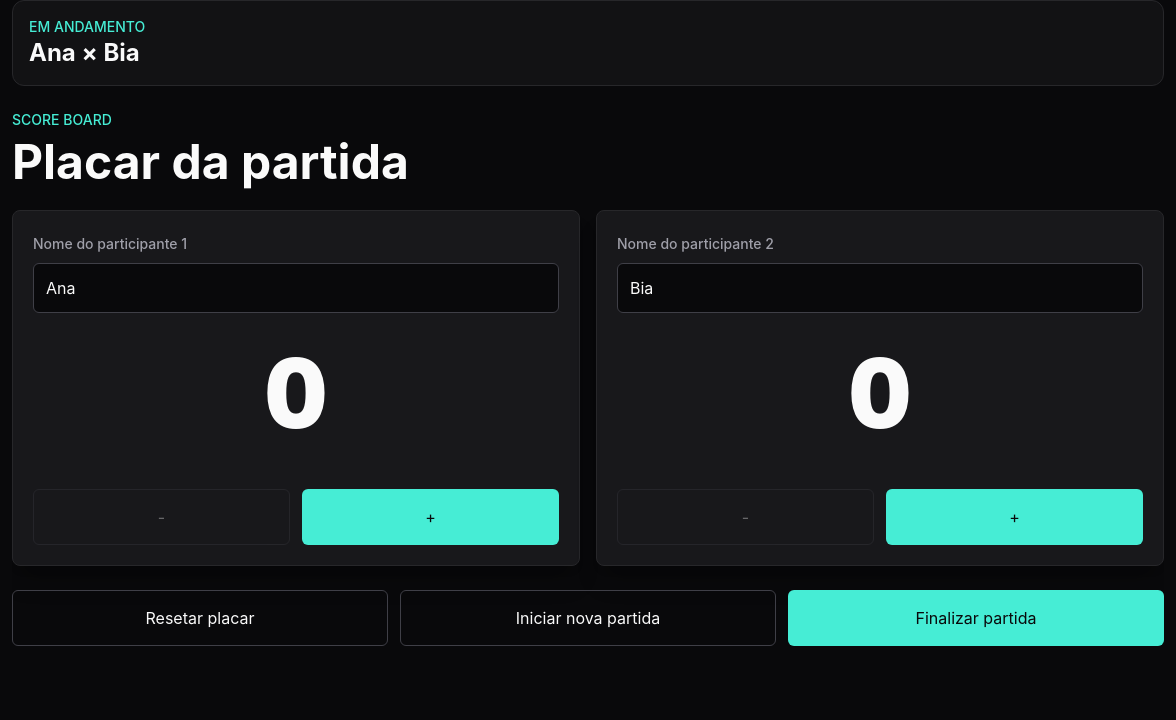
Test: CurrentMatchView › does not finish a tournament match with a draw
Click the button "Finalizar partida". click: {"x": 976, "y": 618}
box: [788,590,1164,646]
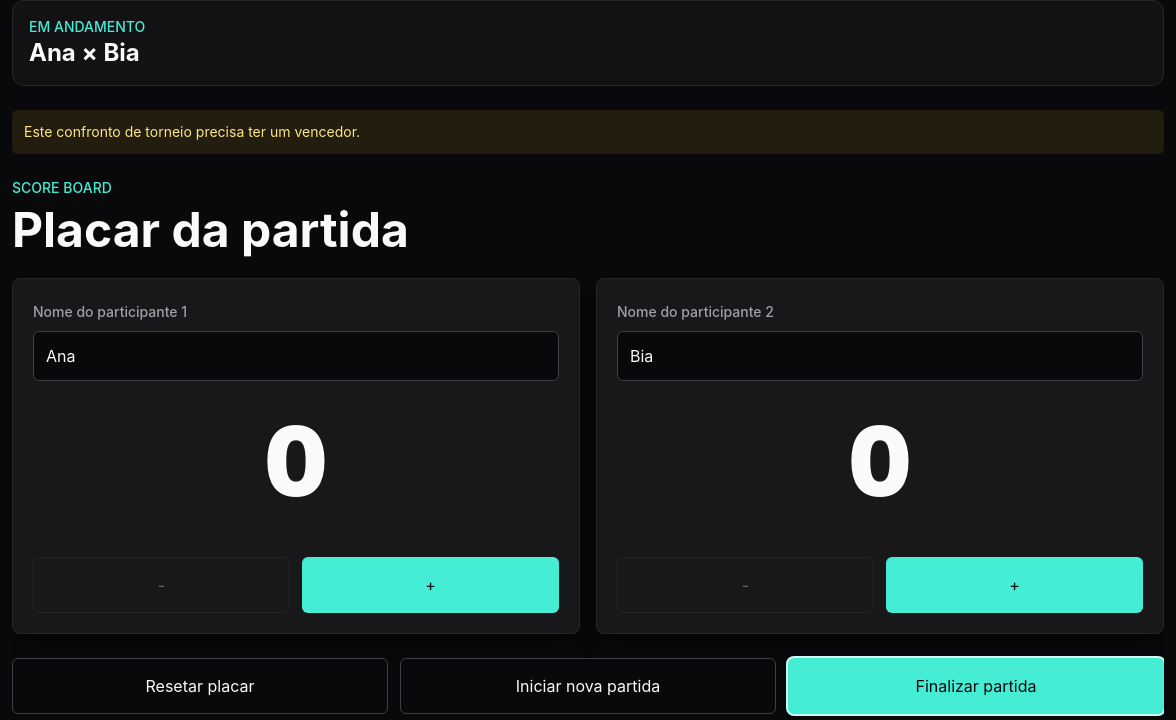
Check: the message shows "precisa ter um vencedor", box [24,123,360,140]
